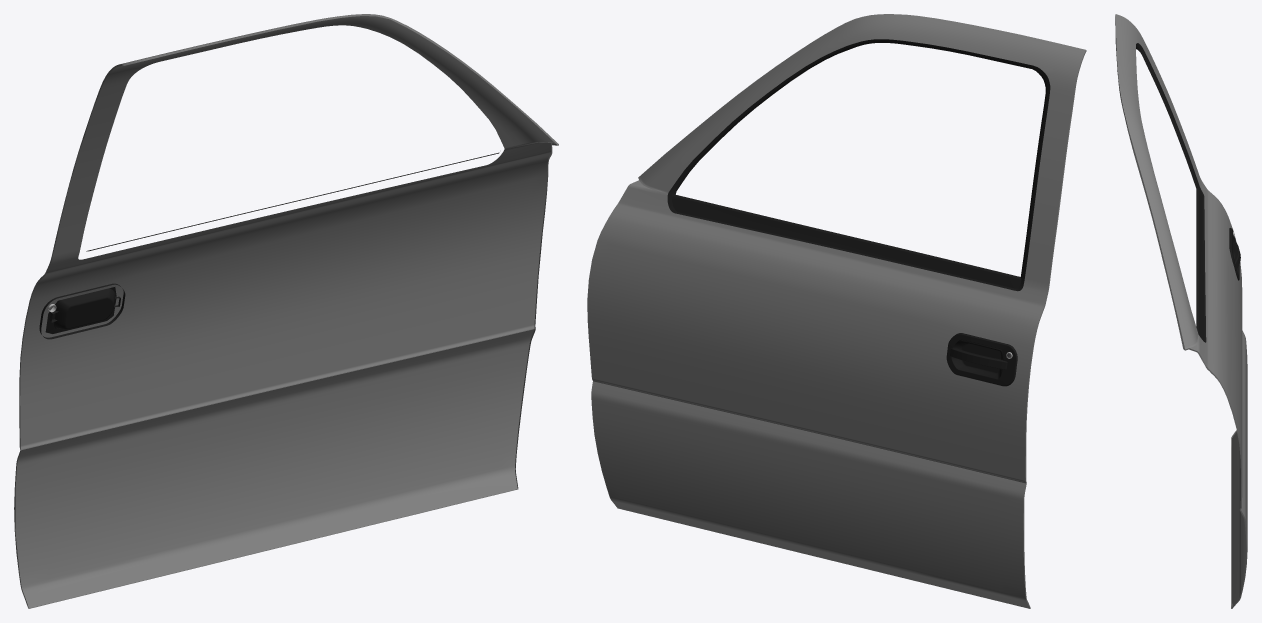
3 renders of one model, left to right at view 1: azimuth 30°, elevation 25°; view 2: azimuth 150°, elevation 25°; view 3: azimuth 270°, elevation 25°, orthographic. The views are drawn at different scales.
Visible parts, largest first — view 1: U803_1A_261B_L_1_DaS_U803_1A_261B_L, U803_1A_261B_L_1_DaS_U803_1A_261B_L_E, U803_1A_261B_L_U803_1A_261B_L_2_D; view 2: U803_1A_261B_L_1_DaS_U803_1A_261B_L, U803_1A_261B_L_U803_1A_261B_L_2_D, U803_1A_261B_L_1_DaS_U803_1A_261B_L_E; view 3: U803_1A_261B_L_1_DaS_U803_1A_261B_L, U803_1A_261B_L_U803_1A_261B_L_2_D, U803_1A_261B_L_1_DaS_U803_1A_261B_L_E.
Boxes of the visible parts, <box> form: U803_1A_261B_L_1_DaS_U803_1A_261B_L: <box>15,16,554,608</box>; U803_1A_261B_L_1_DaS_U803_1A_261B_L_E: <box>14,14,558,608</box>; U803_1A_261B_L_U803_1A_261B_L_2_D: <box>39,152,499,339</box>; U803_1A_261B_L_1_DaS_U803_1A_261B_L: <box>587,14,1085,608</box>; U803_1A_261B_L_U803_1A_261B_L_2_D: <box>667,39,1050,386</box>; U803_1A_261B_L_1_DaS_U803_1A_261B_L_E: <box>593,50,1086,608</box>; U803_1A_261B_L_1_DaS_U803_1A_261B_L: <box>1115,14,1247,606</box>; U803_1A_261B_L_U803_1A_261B_L_2_D: <box>1136,43,1240,342</box>; U803_1A_261B_L_1_DaS_U803_1A_261B_L_E: <box>1115,15,1247,608</box>.
Size of the model in its own units: 112 by 123 by 34.35.
